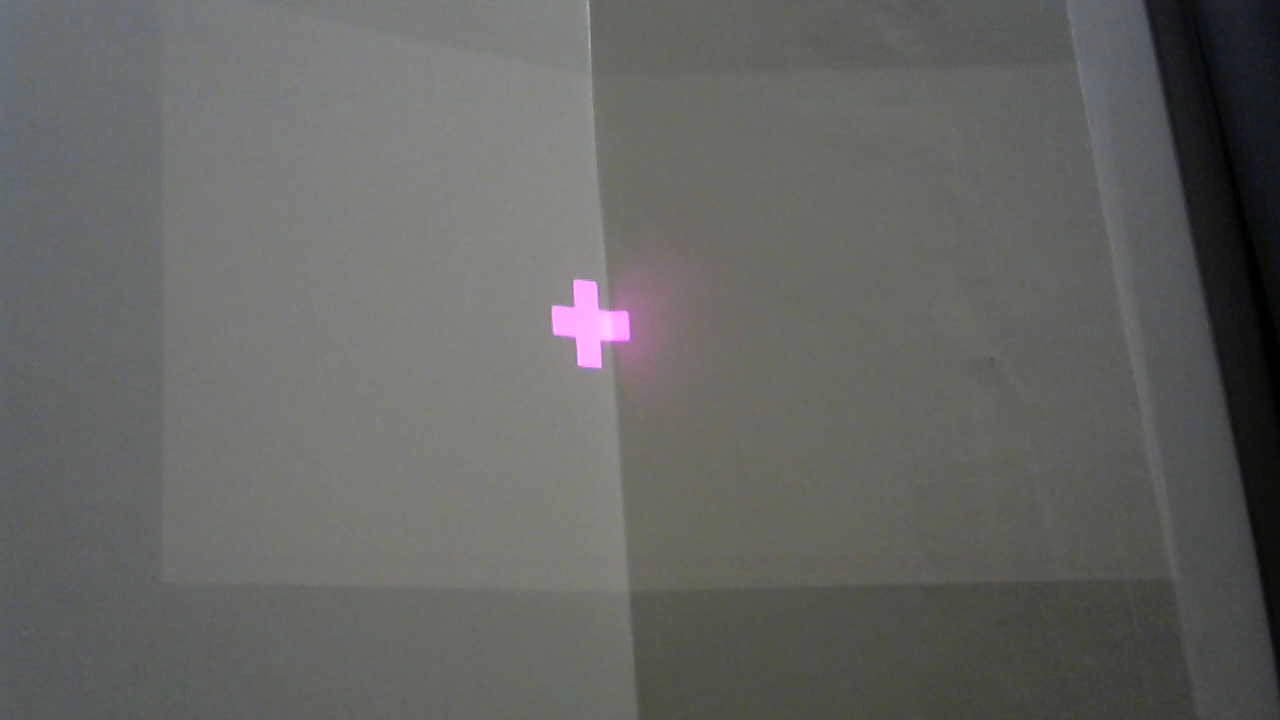calibration_symbol: (547, 277, 632, 371)
